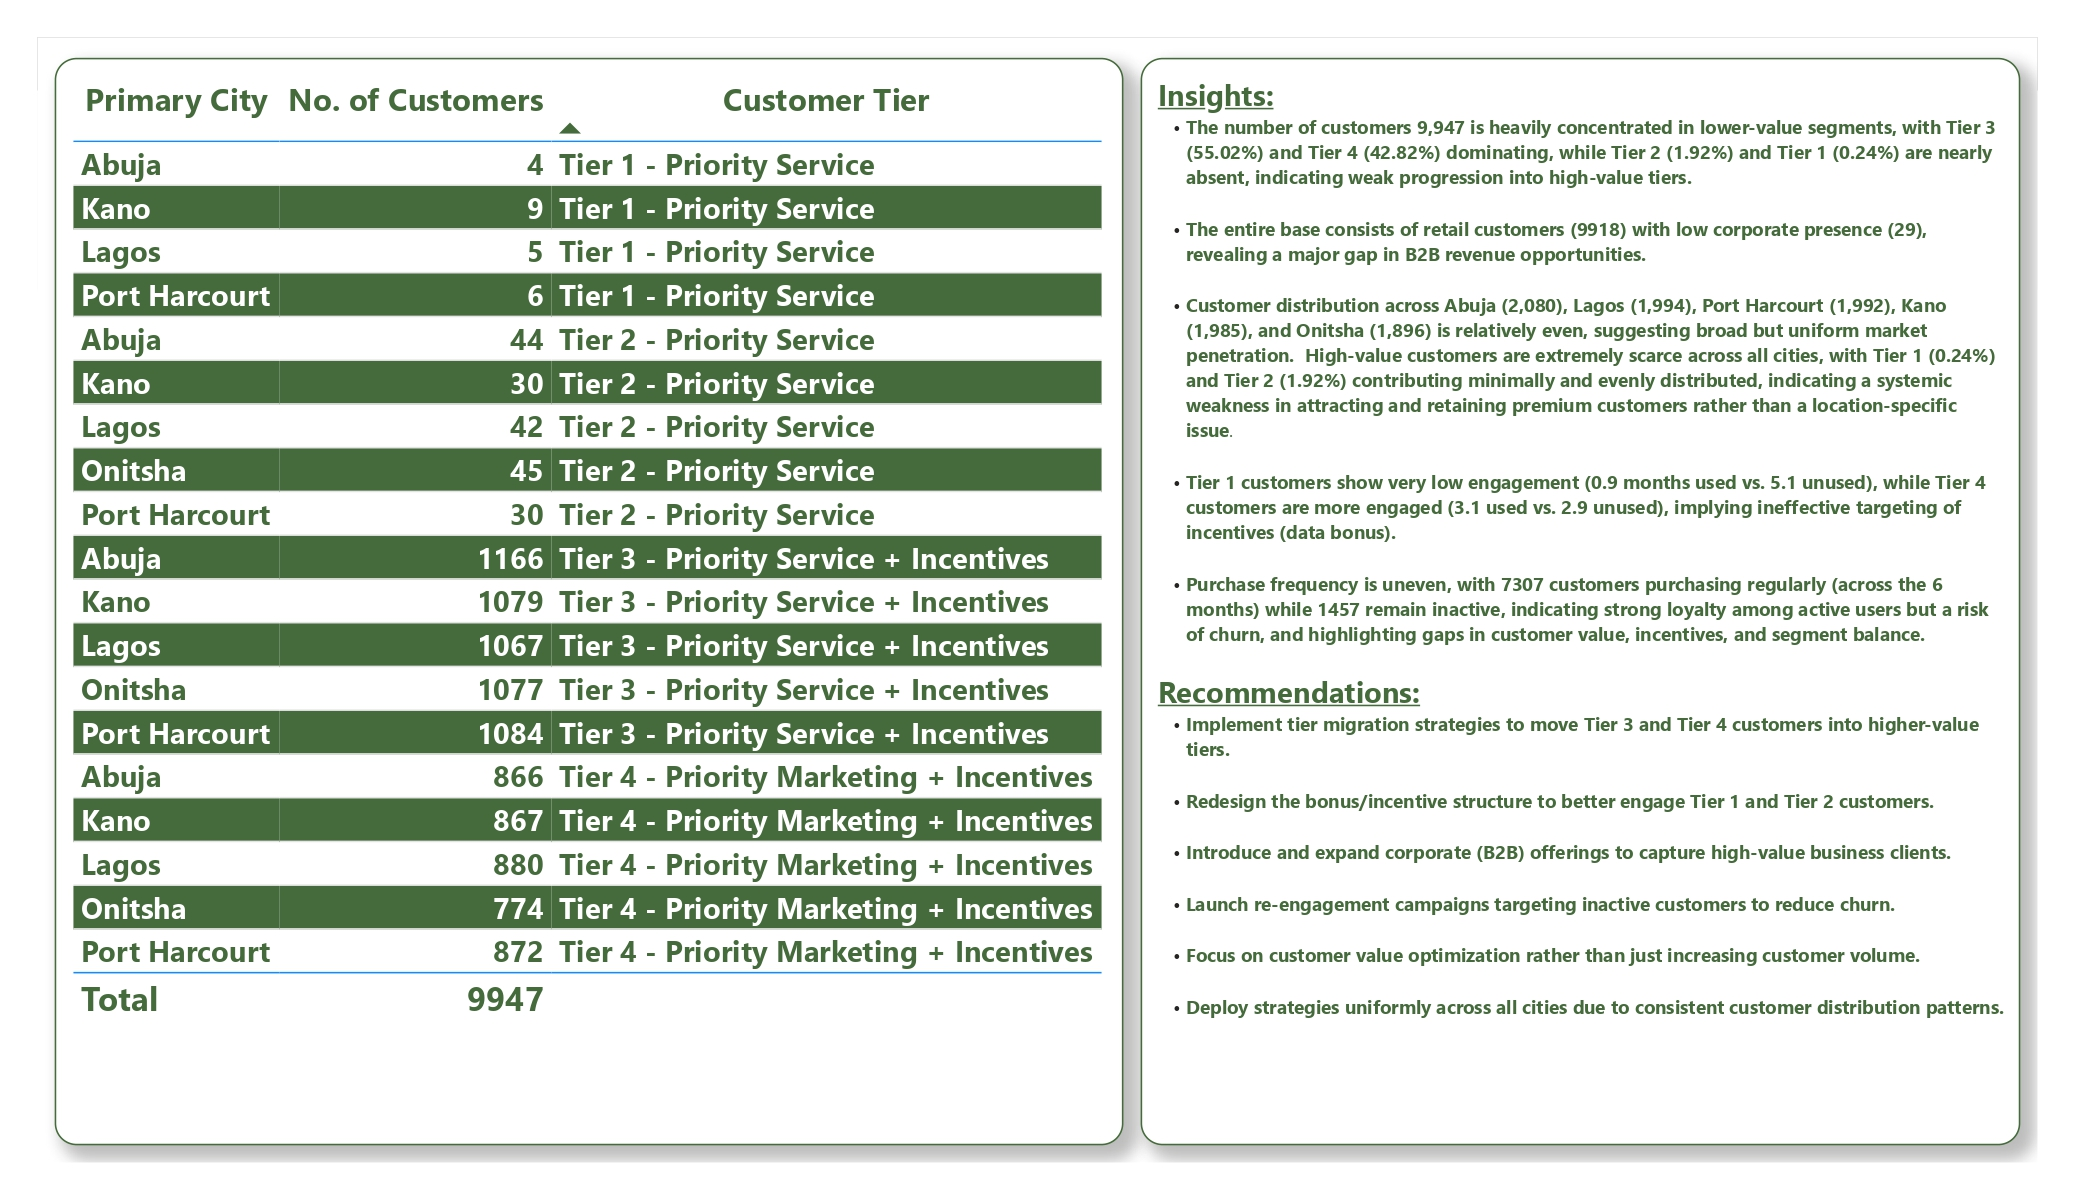

Layout of this report page (visuals, bound fields, positions):
{"tool":"powerbi","page":{"name":"Page 2","canvas":[1280,720],"ordinal":1},"visuals":[{"type":"tableEx","fields":{"Values":["Telecoms Data.Primary City","CountNonNull(Telecoms Data.Account Number)","Telecoms Data.Customer Tier"]},"box":[11.3,13,683.3,696.3],"z":0},{"type":"textbox","box":[706,13,563.5,696.3],"z":1000}]}

Visuals, with their boxes on the page's 1280x720 design canvas (x1, y1, x2, y2). These are canvas units, not pixel positions in the 2075x1200 screenshot, which may show the page scaled, cropped or inside an application window:
tableEx - Telecoms Data.Primary City x CountNonNull(Telecoms Data.Account Number): [x1=11, y1=13, x2=695, y2=709]
textbox: [x1=706, y1=13, x2=1270, y2=709]
